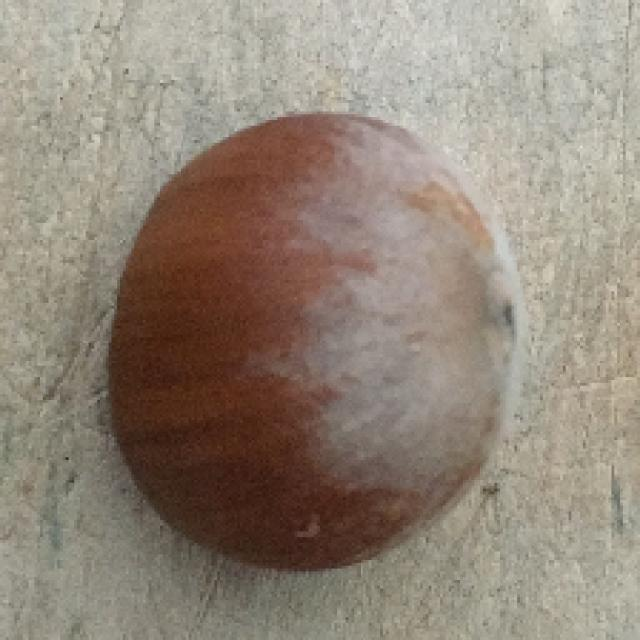qualityHazelnut: (104, 108, 524, 567)
